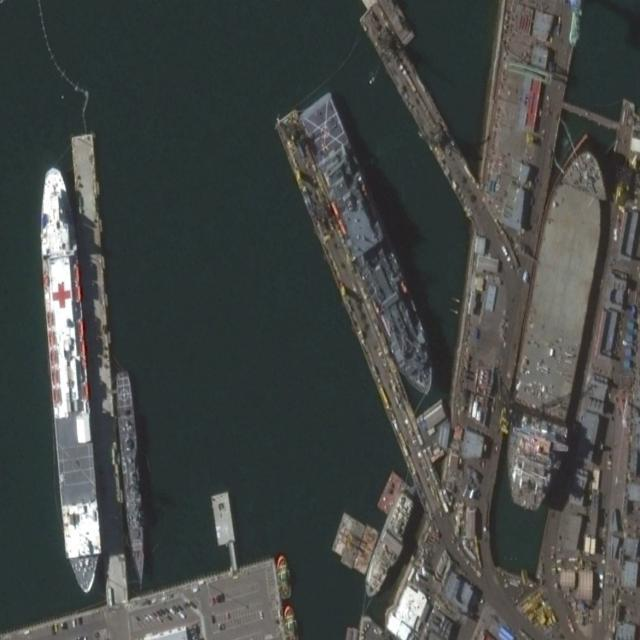Auxiliary Ships: (33, 164, 107, 598)
Cargo: (492, 139, 621, 520)
Commander: (296, 88, 446, 408)
Frigate: (114, 368, 148, 589)
Other Ship: (358, 488, 421, 606)
